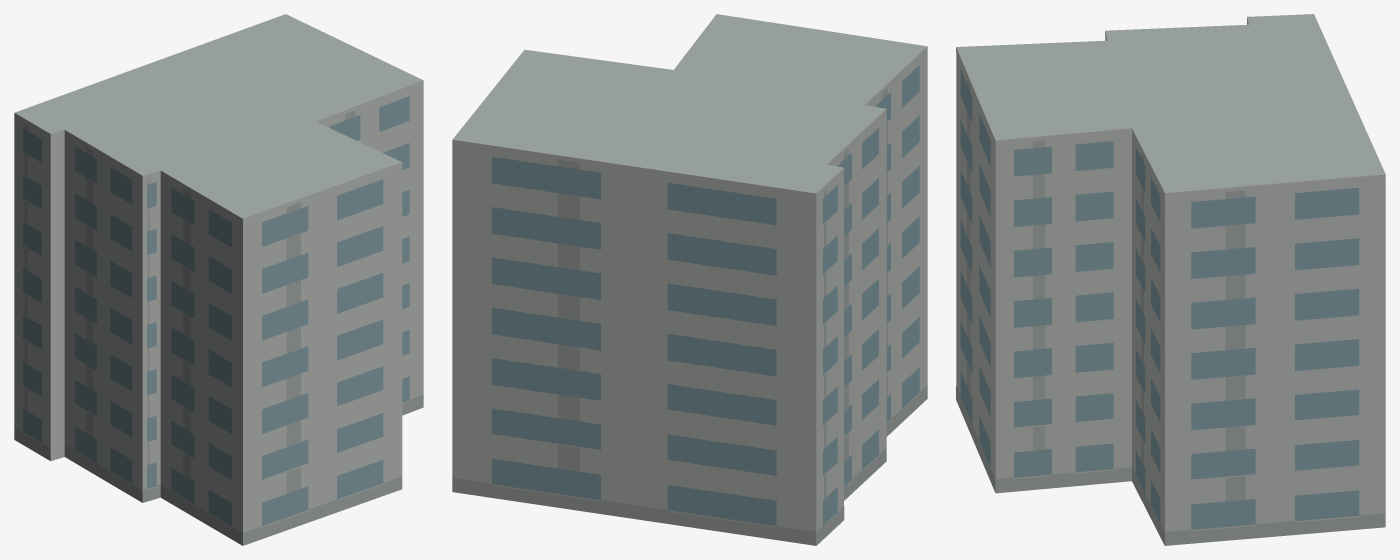
The model's file is residential-a5812ff9-19d2-4821-93a5-88ca0bc815f7.glb.
3 views of the same model, side by side, from view 1: azimuth 30°, elevation 25°; view 2: azimuth 150°, elevation 25°; view 3: azimuth 270°, elevation 25° (orthographic). The views are drawn at different scales.
Visible parts, largest first — view 1: residential-a5812ff9-19d2-4821-93a5-88ca0bc815f7.tmp; view 2: residential-a5812ff9-19d2-4821-93a5-88ca0bc815f7.tmp; view 3: residential-a5812ff9-19d2-4821-93a5-88ca0bc815f7.tmp.
Boxes of the visible parts, <box> form: residential-a5812ff9-19d2-4821-93a5-88ca0bc815f7.tmp: <box>14,14,423,545</box>; residential-a5812ff9-19d2-4821-93a5-88ca0bc815f7.tmp: <box>452,14,927,545</box>; residential-a5812ff9-19d2-4821-93a5-88ca0bc815f7.tmp: <box>956,14,1385,545</box>.
Bounding box in the file's own units: 22.05 × 20.25 × 22.35.
